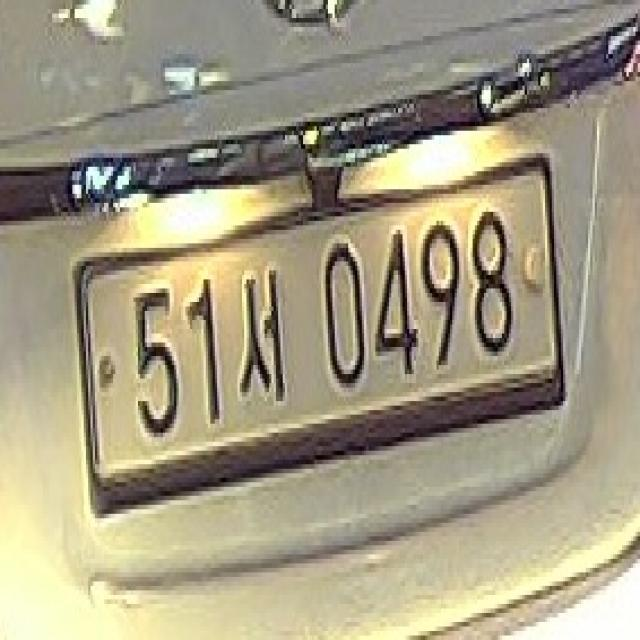0: (316, 229, 366, 399)
1: (183, 269, 226, 442)
4: (370, 224, 420, 392)
5: (134, 278, 180, 459)
8: (470, 202, 513, 358)
9: (420, 216, 463, 378)
license_plate: (59, 127, 579, 546)
seo: (234, 258, 291, 418)
